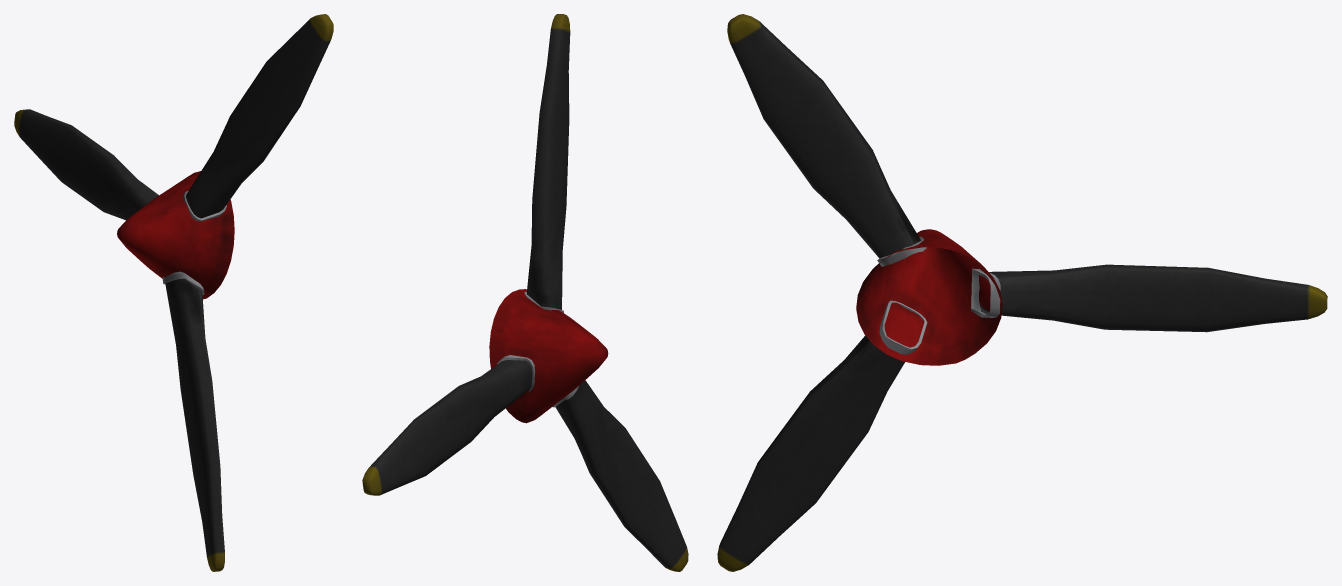
Rendered from propeller.glb.
The picture shows the model from 3 angles, left to right: view 1: azimuth 30°, elevation 25°; view 2: azimuth 150°, elevation 25°; view 3: azimuth 270°, elevation 25°; orthographic projection. The views are drawn at different scales.
Visible parts, largest first — view 1: Object_2.001; view 2: Object_2.001; view 3: Object_2.001.
Part boxes in pixels (x1=…): Object_2.001: x1=14, y1=14, x2=333, y2=571; Object_2.001: x1=362, y1=14, x2=688, y2=571; Object_2.001: x1=717, y1=14, x2=1327, y2=571.
Bounding box in the file's own units: 1.51 × 5.79 × 5.17.
Materials: 1 (1 with a texture image).
